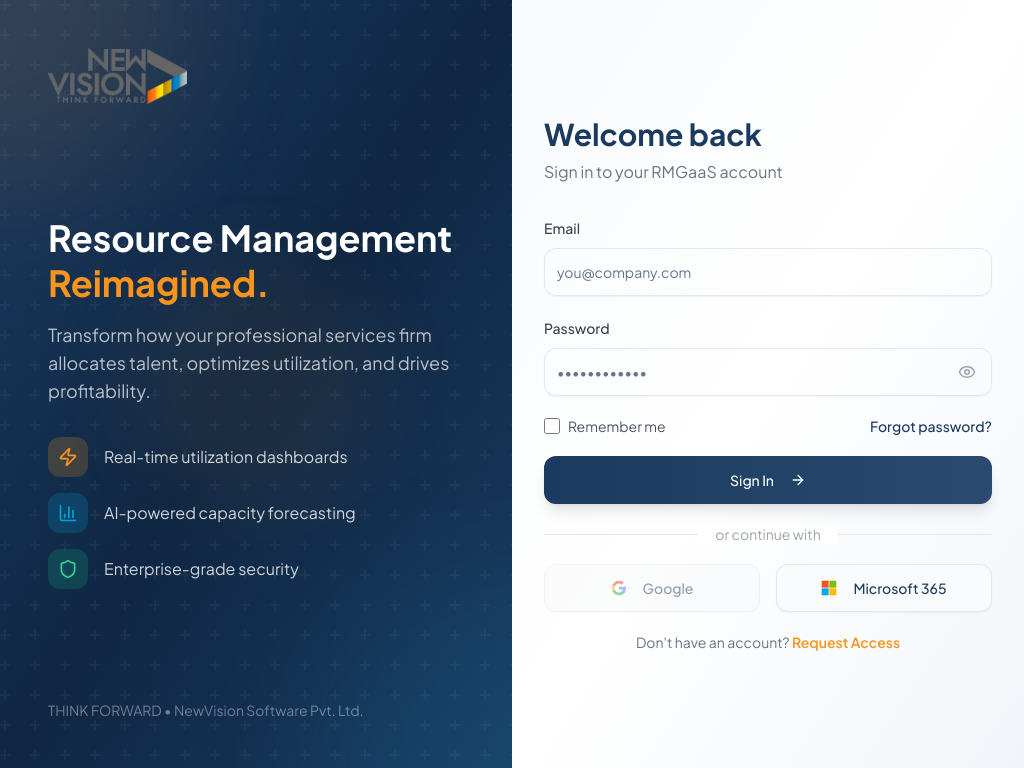
Test case: LoginPage › Form Validation › shows error when password is empty
Note: User fills email but not password
In the field labelled "Email": (768, 272) [544,248,992,296], type "test@example.com"
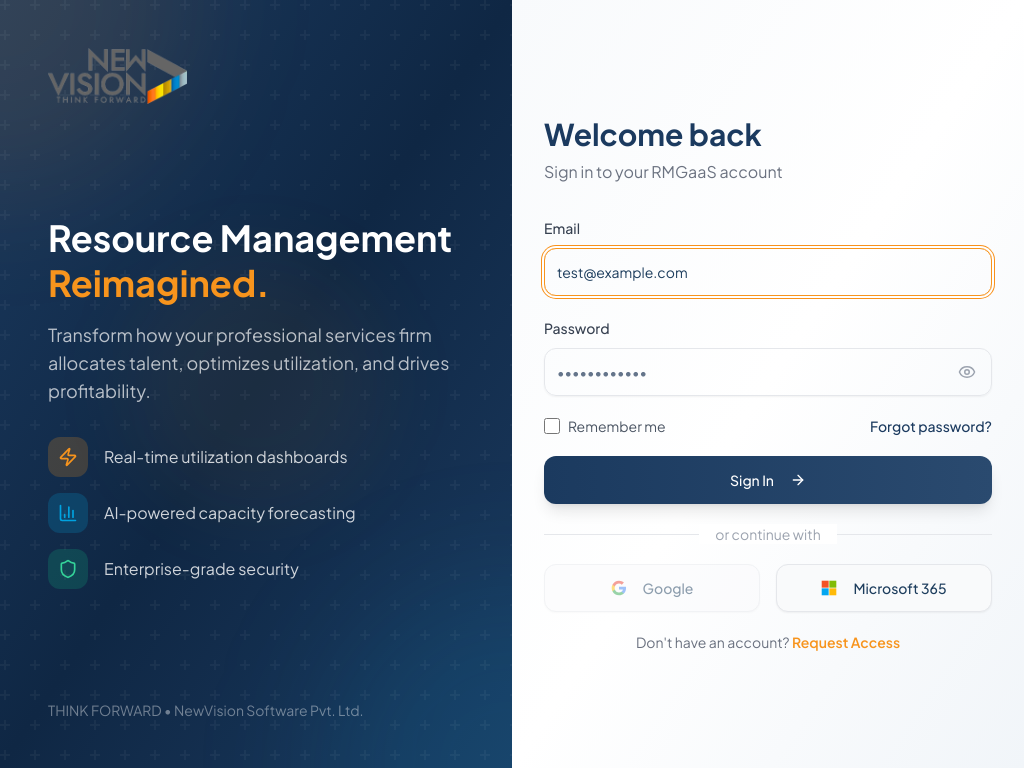
Click the button "Sign In": (768, 480) [544,456,992,504]
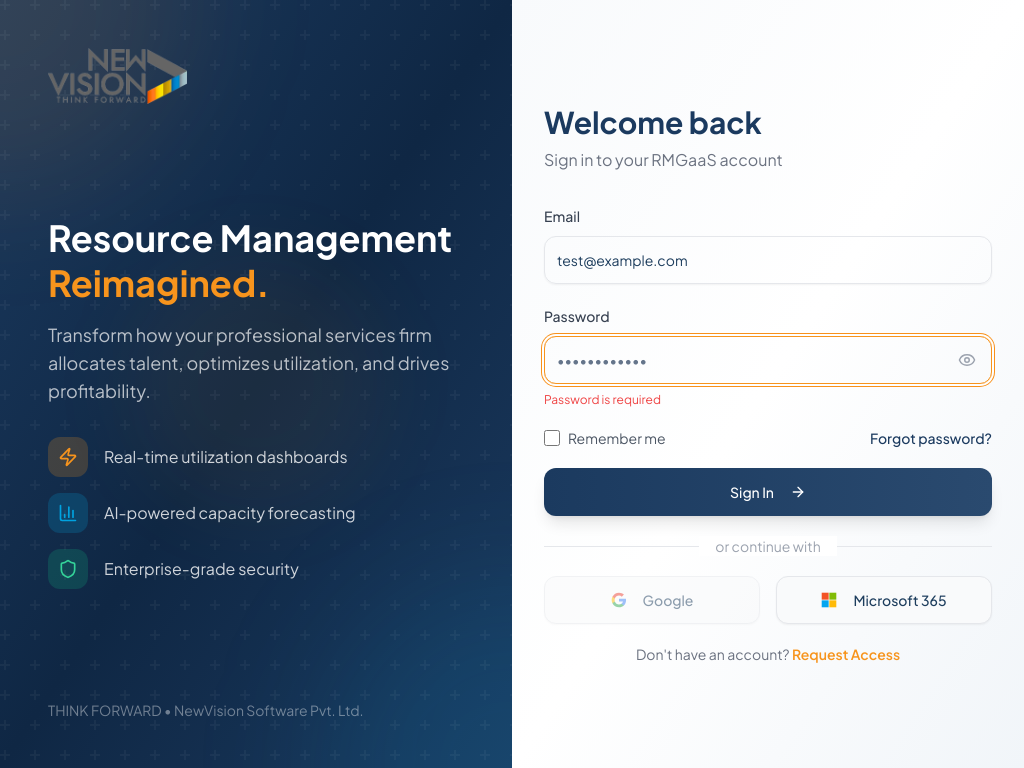
Expected: the text "Password is required" is shown, [544,392,661,407]
